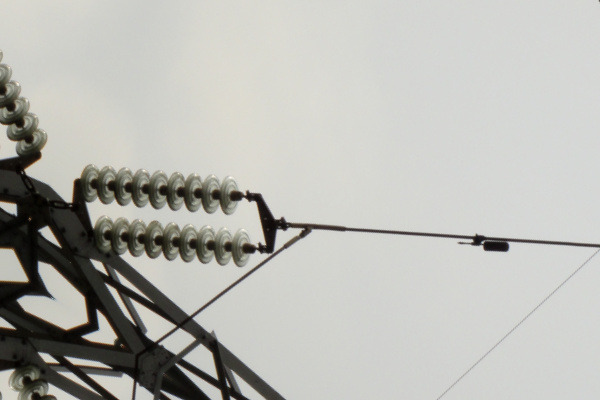damper_defect: (455, 231, 511, 254)
